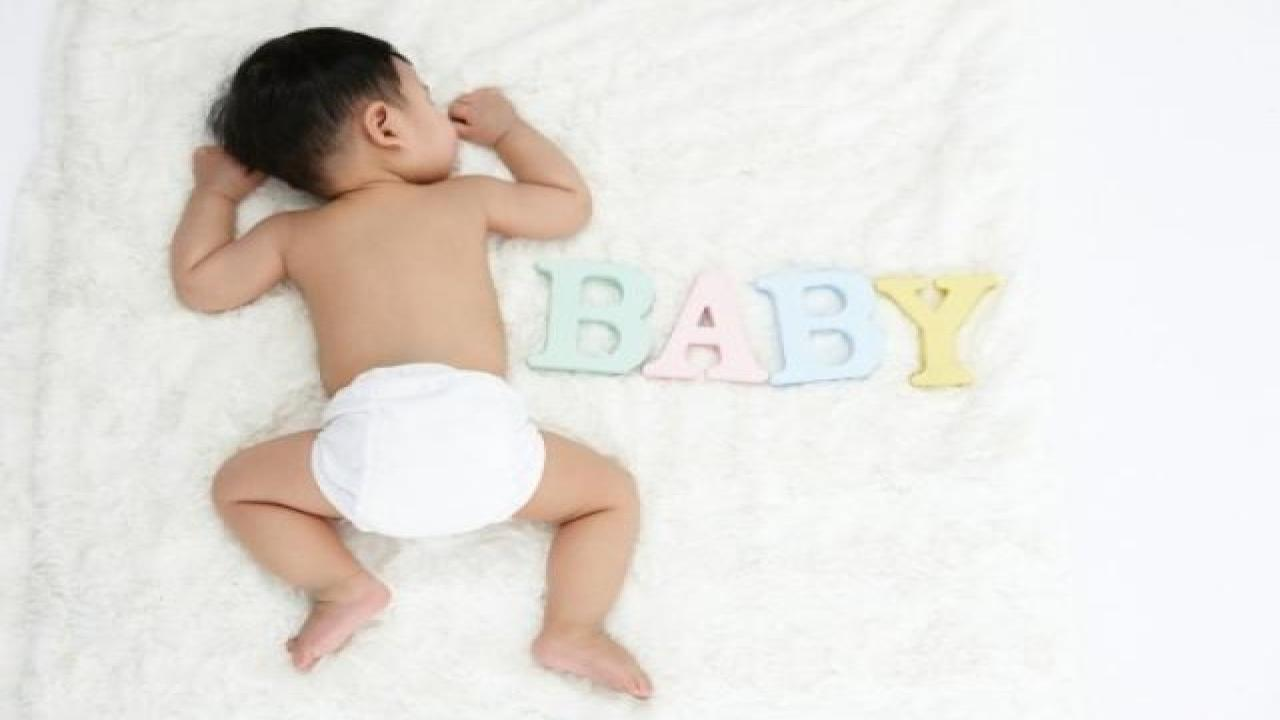hand: (443, 75, 525, 143), (185, 145, 268, 204)
